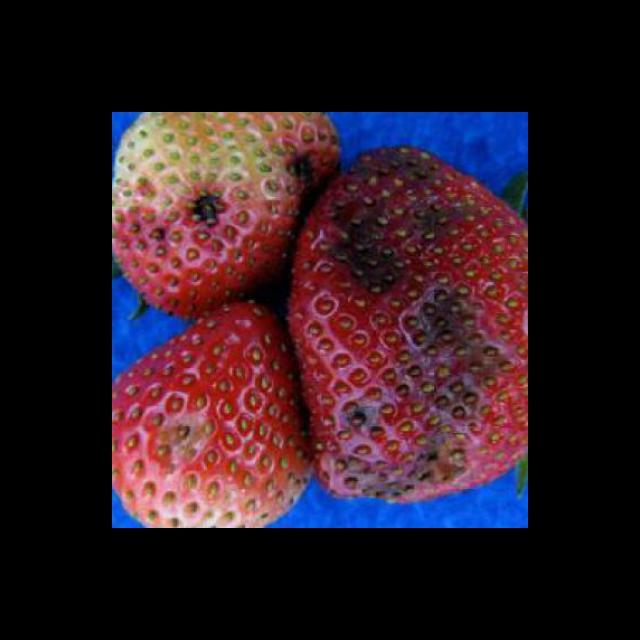Anthracnose Fruit Rot: (317, 145, 525, 504), (138, 398, 223, 472), (177, 182, 233, 236)
